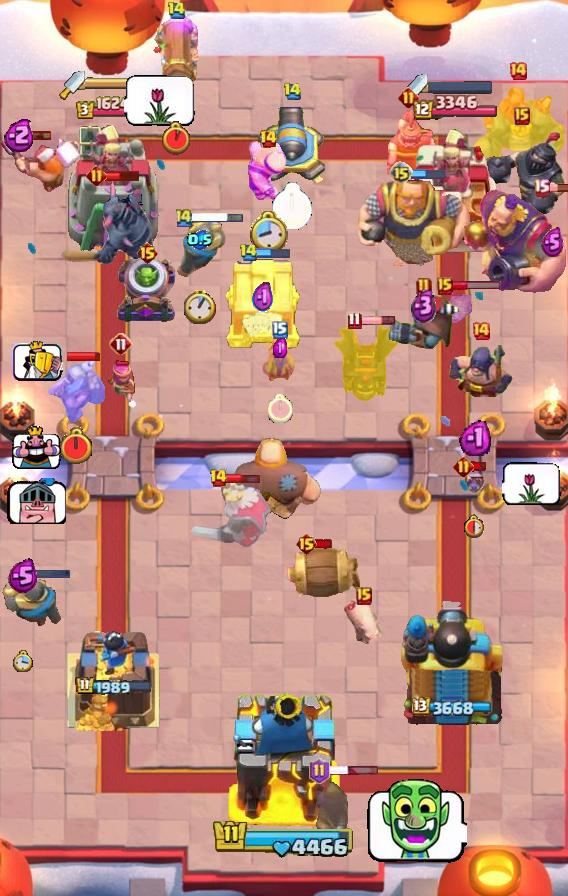archer-evolution: (333, 321, 399, 405)
arrows: (246, 138, 290, 209)
balloon: (218, 436, 324, 526)
bandit: (47, 358, 105, 426)
bar: (403, 124, 503, 256), (67, 122, 161, 256)
barbarian-barrel: (462, 468, 488, 498)
battle-healer: (153, 13, 199, 117)
bomb: (223, 256, 303, 350)
bomb-tower: (312, 776, 350, 854)
cannon: (105, 360, 137, 404)
cannoneer-tower: (469, 83, 567, 185)
clock: (212, 818, 356, 860)
earthquake: (381, 110, 435, 180)
electro-spirit: (459, 418, 491, 456), (4, 117, 36, 152), (8, 558, 38, 594), (411, 289, 437, 323), (252, 281, 274, 315), (540, 227, 564, 257), (187, 230, 213, 250), (273, 338, 287, 358)
elixir: (271, 182, 313, 231), (248, 212, 288, 257), (58, 427, 94, 466), (184, 289, 216, 323), (162, 121, 190, 155), (268, 393, 293, 422), (464, 514, 486, 538), (13, 650, 33, 672)
emote: (20, 567, 72, 581), (191, 212, 245, 225), (327, 764, 379, 776), (450, 280, 501, 291), (256, 245, 291, 259), (104, 170, 141, 183), (410, 167, 446, 180), (226, 471, 261, 484), (359, 315, 397, 326), (16, 131, 51, 142), (67, 350, 101, 361), (315, 538, 334, 550), (548, 182, 568, 193), (471, 460, 488, 471)
firecracker: (175, 215, 226, 278), (0, 577, 62, 627)
giant: (341, 596, 387, 648)
giant-skeleton: (356, 170, 472, 270)
goblin-cage: (115, 255, 179, 325)
golemite: (61, 180, 157, 272)
ice-spirit-evolution: (444, 289, 476, 325)
king-tower: (226, 688, 342, 826)
king-tower-bar: (85, 77, 155, 91), (428, 81, 492, 94)
lightning: (461, 187, 568, 297)
mighty-miner: (0, 138, 80, 200)
monk: (448, 343, 514, 401)
mortar-evolution: (191, 479, 273, 549)
phoenix-small: (385, 291, 463, 351)
queen-tower: (66, 621, 162, 731)
royal-guardian: (476, 128, 568, 224)
royal-recruit: (256, 105, 328, 189)
selected: (411, 95, 498, 122), (75, 96, 153, 121), (412, 698, 494, 719), (75, 675, 153, 697)
skeleton: (365, 778, 467, 864), (124, 74, 196, 126), (6, 478, 66, 524), (503, 463, 562, 506), (9, 342, 62, 383), (11, 426, 60, 470)
text: (389, 161, 413, 185), (109, 332, 133, 356), (136, 241, 159, 265), (294, 532, 317, 556), (309, 758, 330, 784), (398, 87, 419, 109), (85, 166, 106, 187), (453, 455, 474, 476), (174, 208, 194, 229), (508, 61, 528, 81), (258, 129, 278, 149), (471, 321, 491, 341), (209, 468, 228, 488), (166, 1, 185, 20), (283, 83, 302, 102), (239, 243, 258, 261), (533, 178, 550, 197), (416, 277, 432, 297), (514, 107, 530, 125), (437, 277, 453, 295), (272, 321, 288, 339), (356, 587, 372, 605), (346, 311, 361, 329)
the-log: (283, 544, 363, 604)
tower-bar: (397, 595, 509, 731)
zap: (260, 332, 300, 384)
